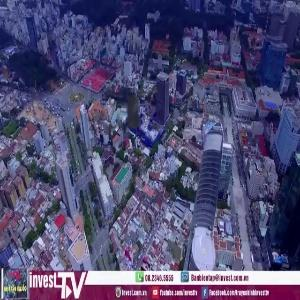drone: (97, 70, 188, 161)
